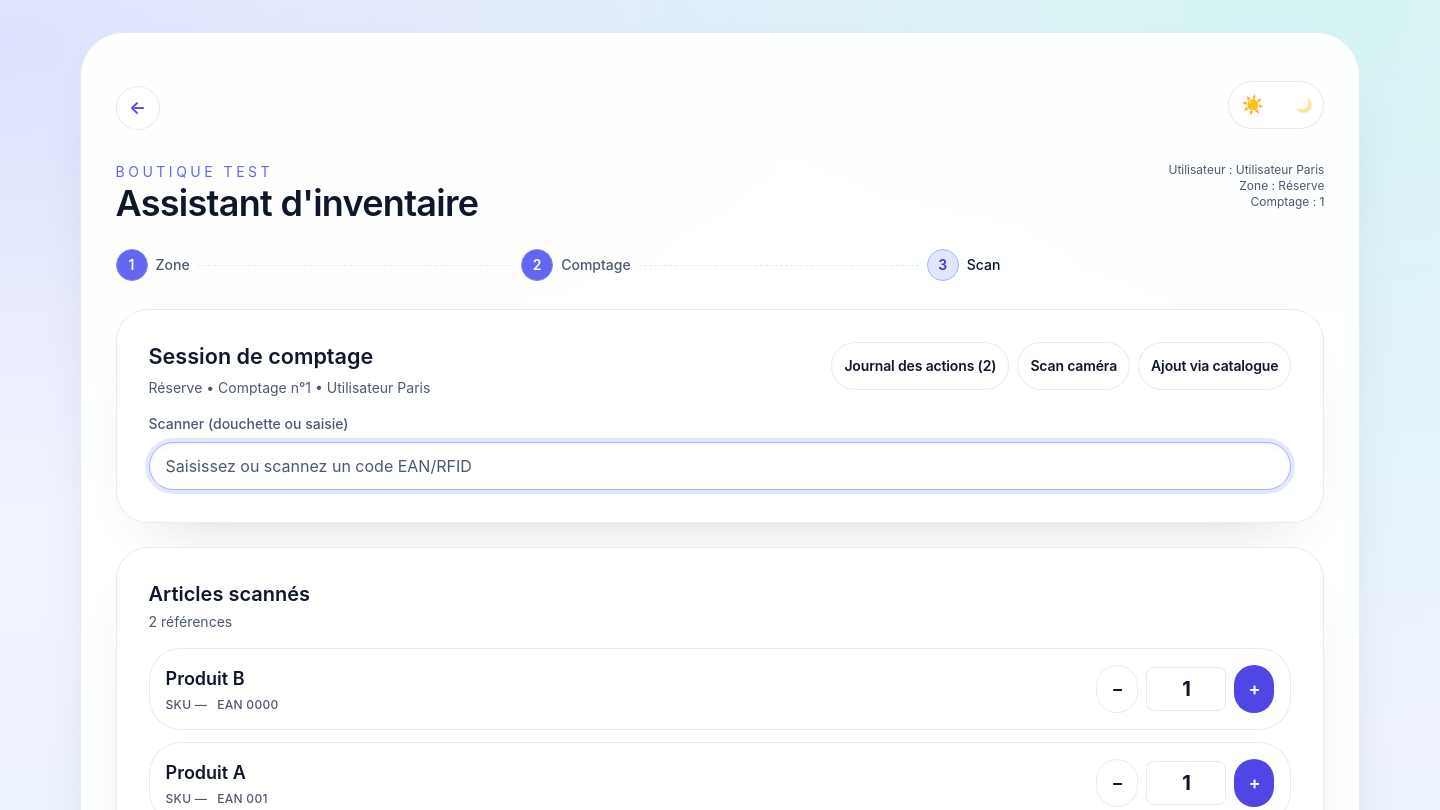
Scenario: Workflow d'inventaire › place l'article modifié en premier et conserve un journal des actions
Click the button named "Ajouter" at (1254, 783), box [1234,759,1274,807]
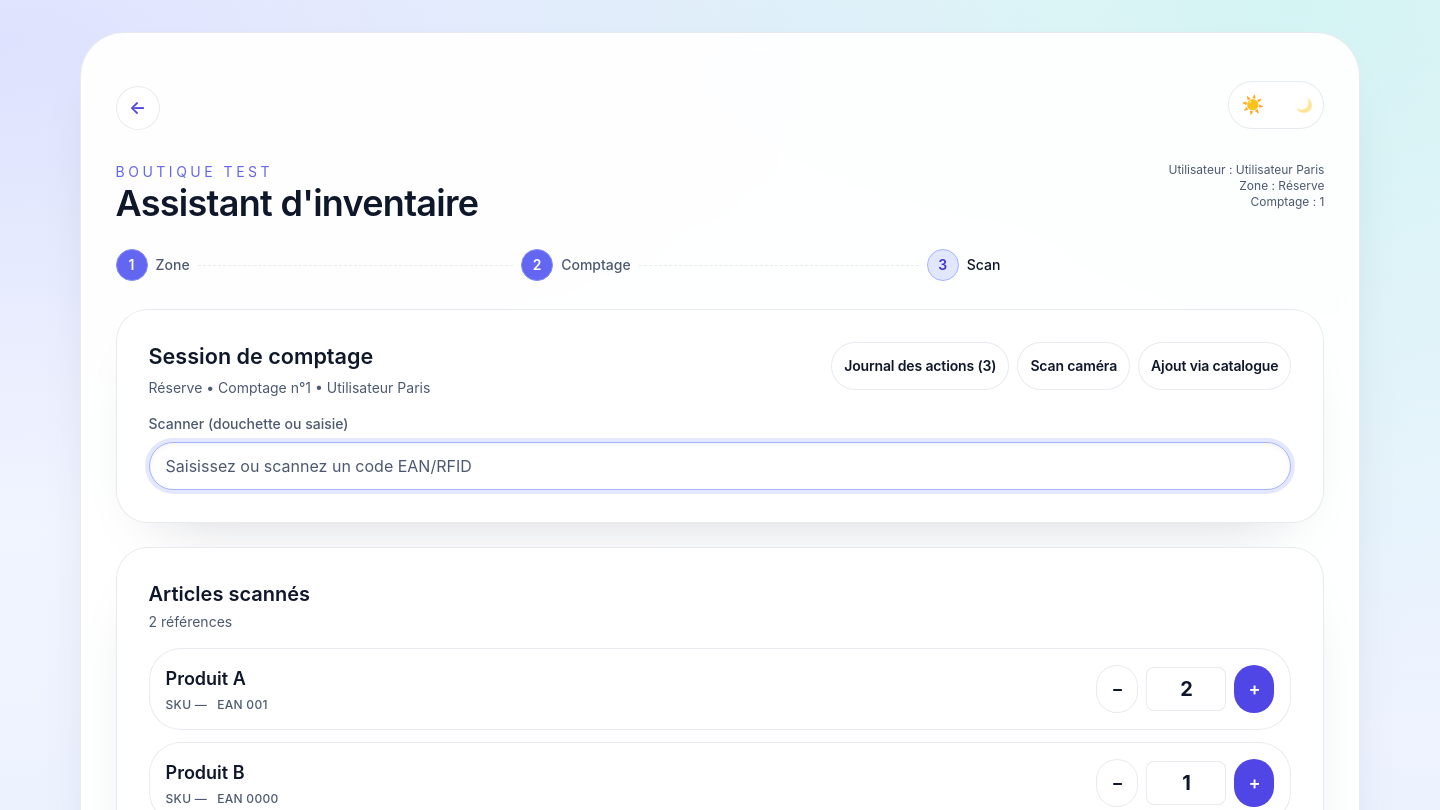
Expected: the field showing "2" is shown, [1146,667,1226,711]
Click the button named "Retirer" at (1118, 689), box [1096,665,1138,713]
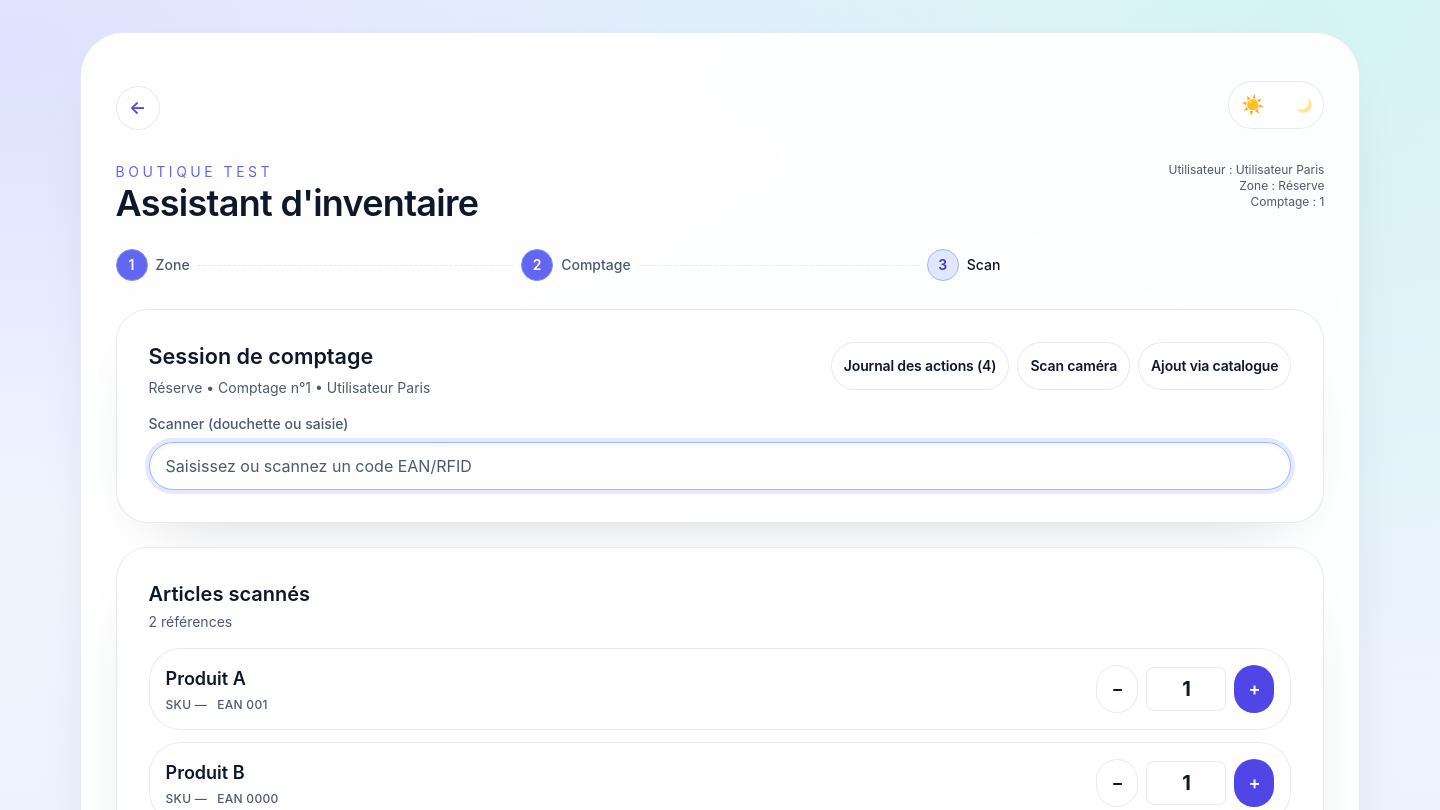
Expected: the field showing "1" is shown, [1146,667,1226,711]
Click the button "Journal des actions (4)" at (920, 366), box [831,342,1009,390]
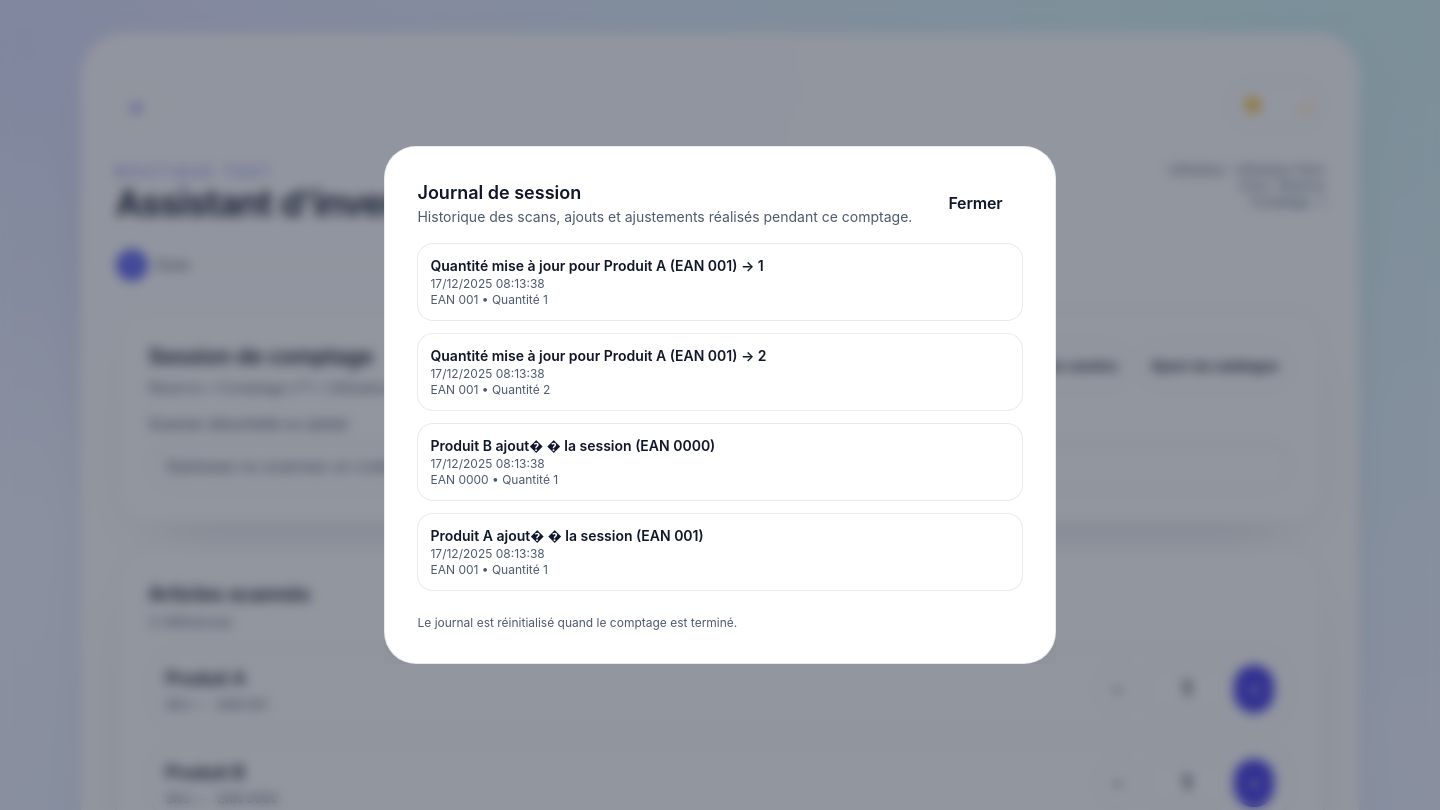
Result: the 1st list item shows "Quantité mise à jour pour Produit A (EAN 001) → 1" at [430,257,764,274]
